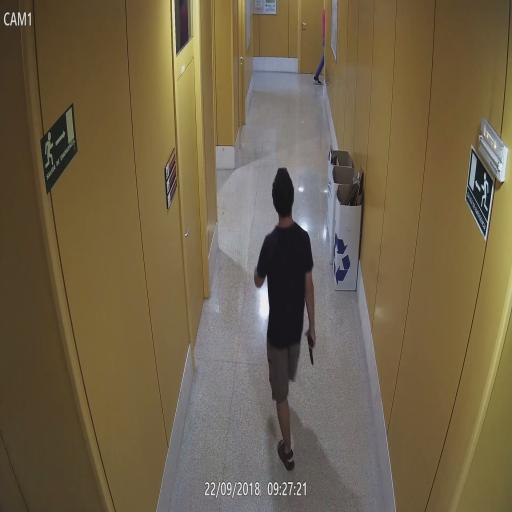Handgun: (304, 327, 316, 366)
